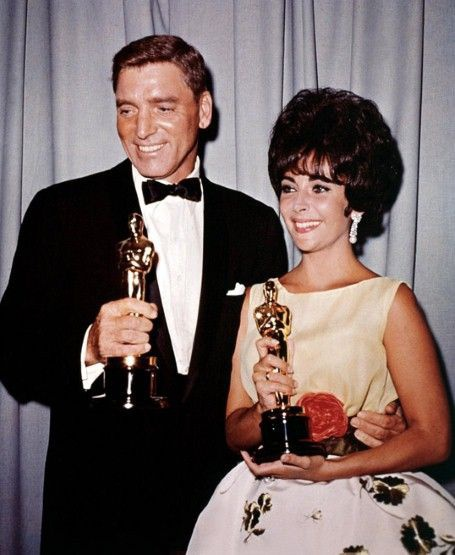hand: (258, 342, 291, 398)
